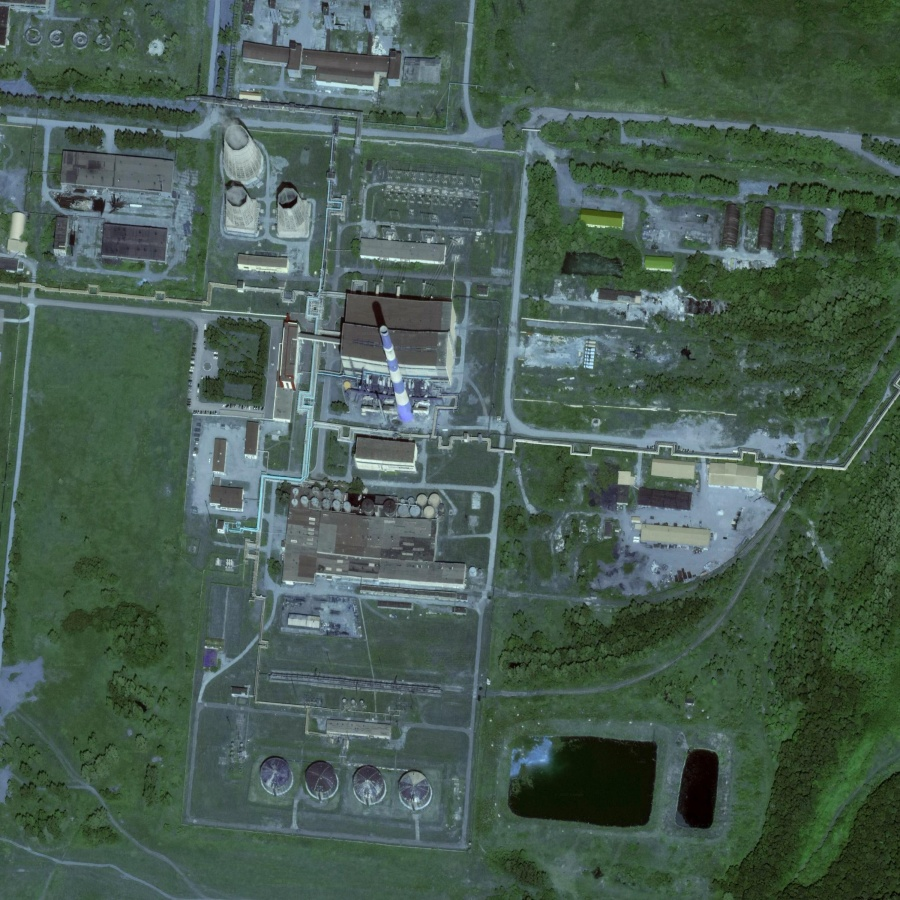PowerPlant: (194, 114, 487, 473), (253, 705, 464, 871), (498, 722, 732, 849)
